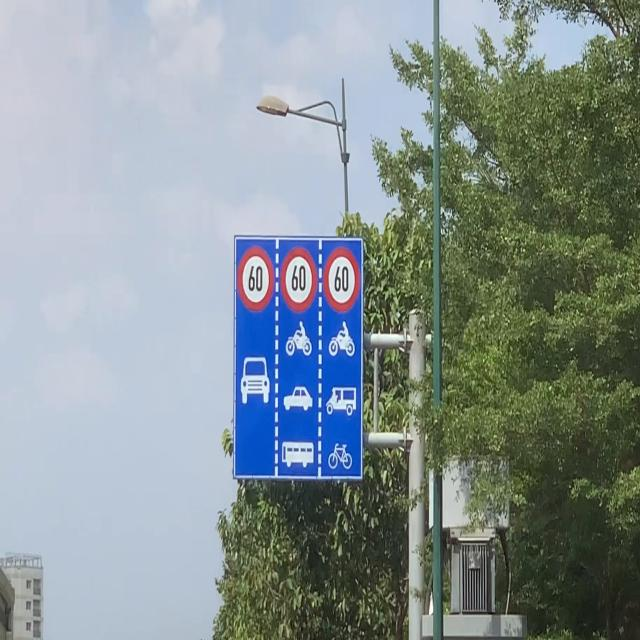Toc do toi da: (280, 246, 318, 312), (237, 246, 275, 311), (324, 247, 361, 312)
